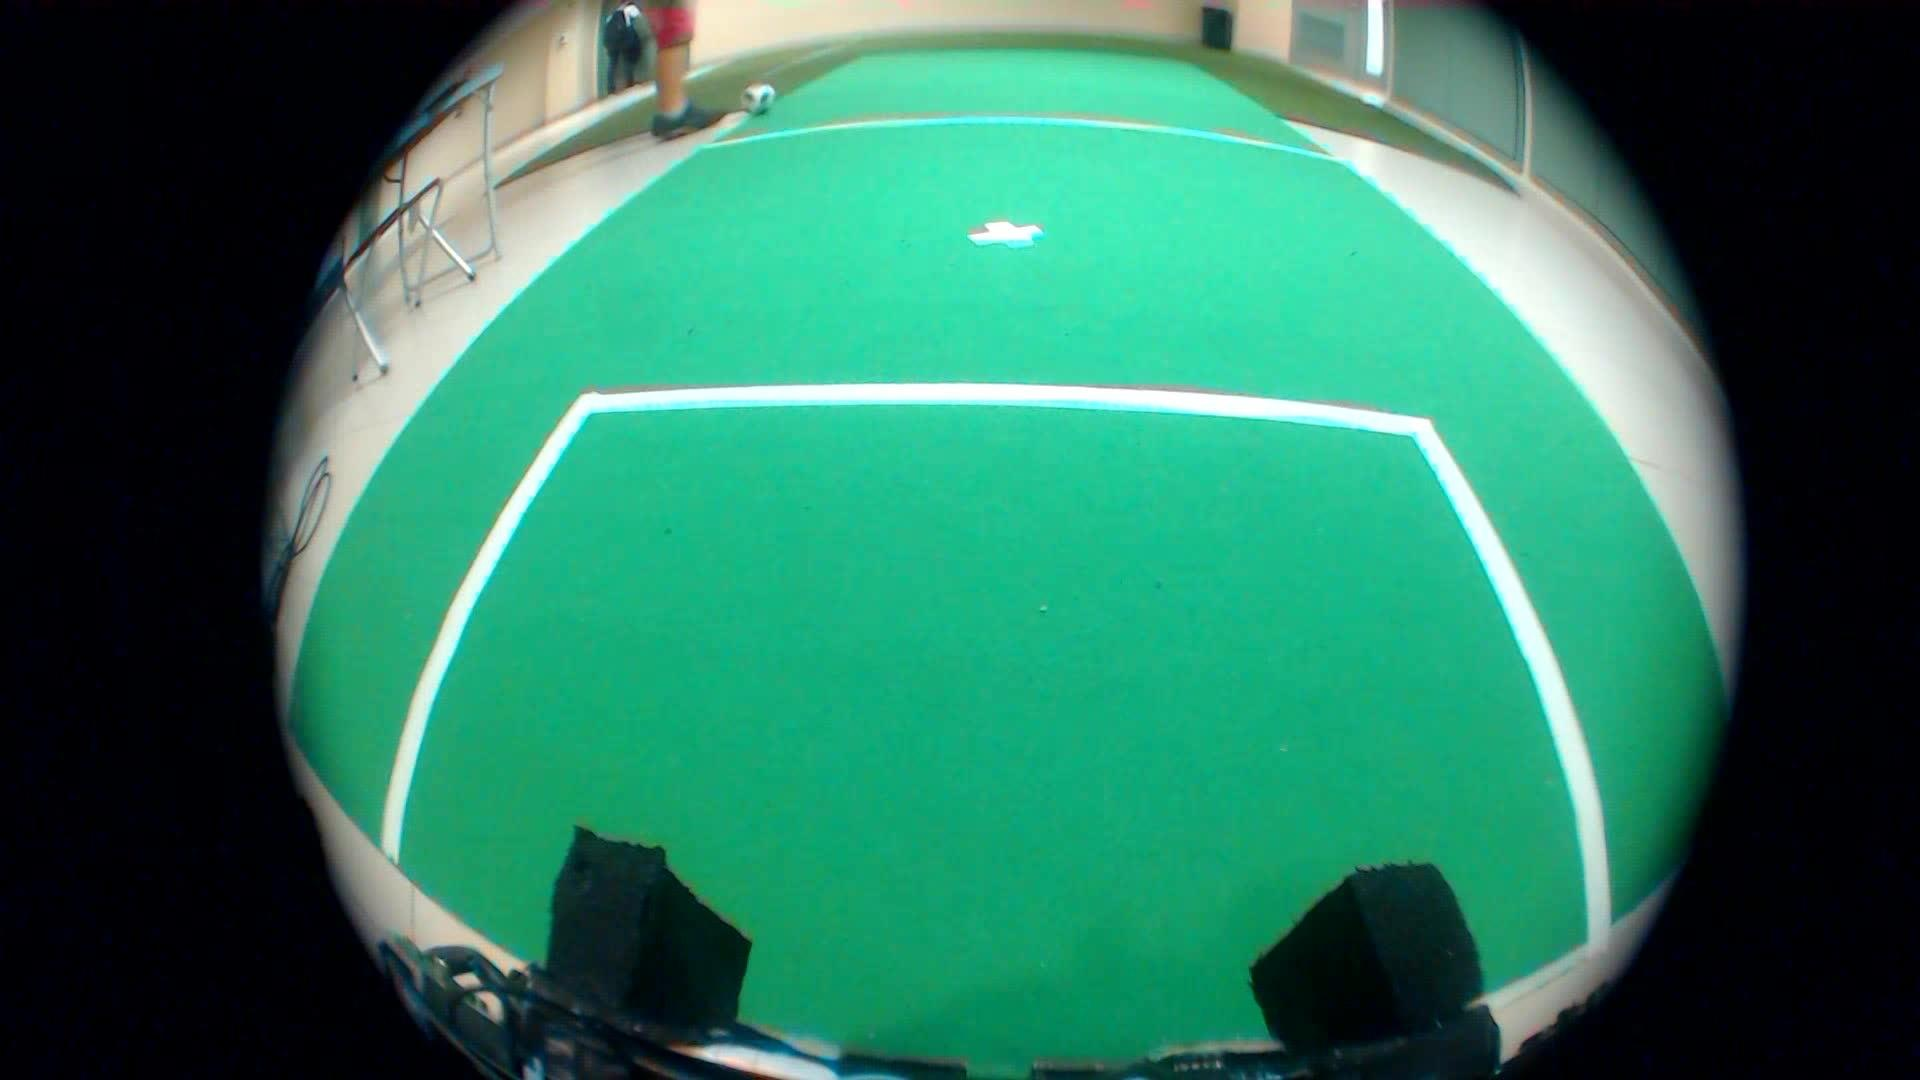ball: (735, 83, 778, 128)
